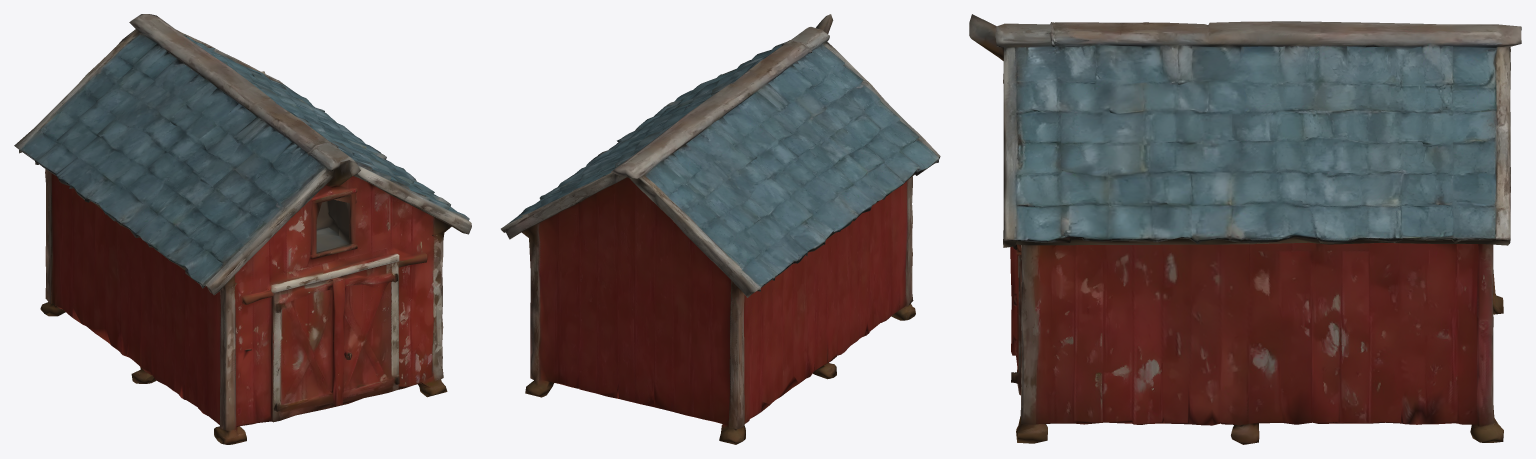
Rendered from barn.glb.
3 views of the same model, side by side, from view 1: azimuth 30°, elevation 25°; view 2: azimuth 150°, elevation 25°; view 3: azimuth 270°, elevation 25° (orthographic). The views are drawn at different scales.
Visible parts, largest first — view 1: tripo_node_2c36bf83-ef4c-4b49-b76e-80acec83e1ce; view 2: tripo_node_2c36bf83-ef4c-4b49-b76e-80acec83e1ce; view 3: tripo_node_2c36bf83-ef4c-4b49-b76e-80acec83e1ce.
Part boxes in pixels (bbox=[...]): tripo_node_2c36bf83-ef4c-4b49-b76e-80acec83e1ce: bbox=[14, 14, 471, 444]; tripo_node_2c36bf83-ef4c-4b49-b76e-80acec83e1ce: bbox=[501, 14, 940, 444]; tripo_node_2c36bf83-ef4c-4b49-b76e-80acec83e1ce: bbox=[969, 14, 1521, 444].
Bounding box in the file's own units: 0.7322 × 0.7103 × 1.
1 material, 1 textured.
